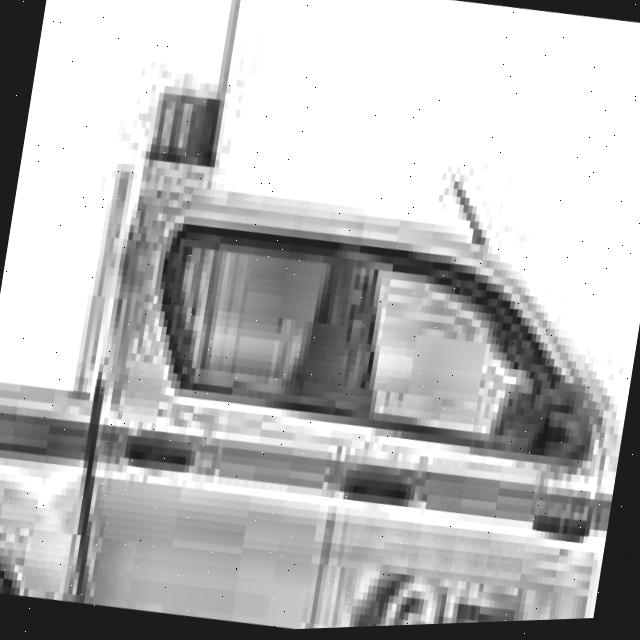light_vehicle: (0, 37, 640, 640)
